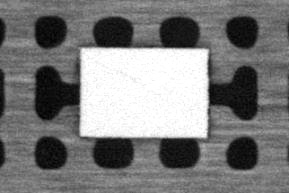DIE_CRACK: (85, 54, 160, 97)
